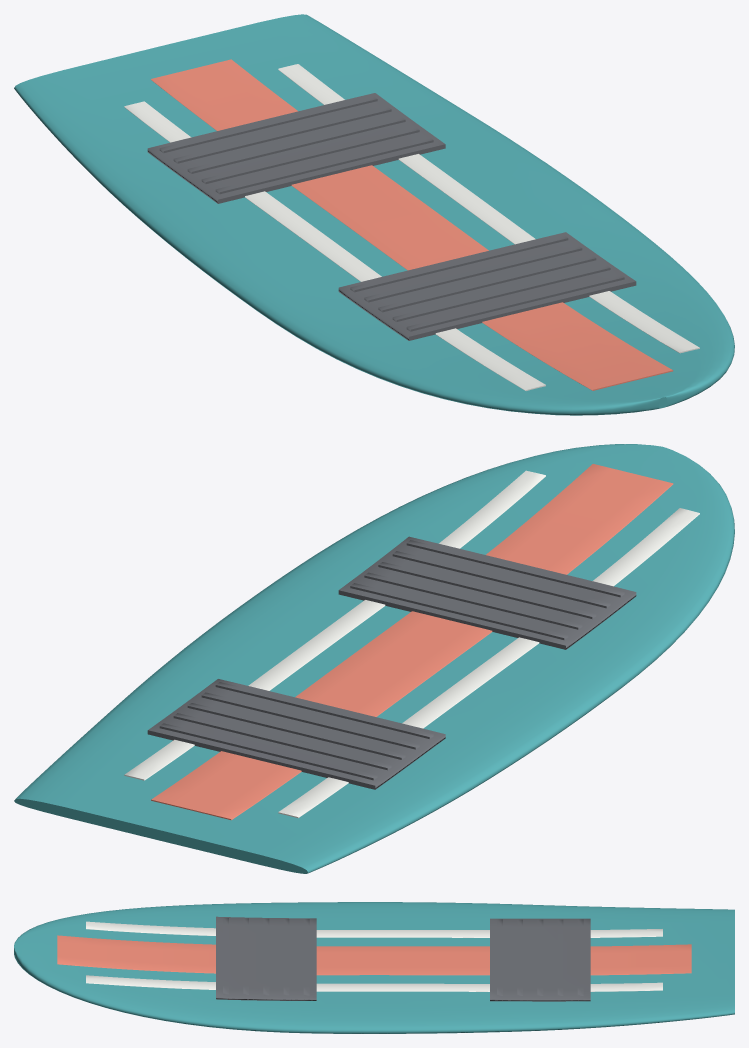
Rendered from beach-surf-and-paddle-kit-skimboard-ec25b31f__39423.glb.
3 renders of one model, top to bottom at view 1: azimuth 30°, elevation 25°; view 2: azimuth 150°, elevation 25°; view 3: azimuth 270°, elevation 25°, orthographic. The views are drawn at different scales.
Parts seen in each view (by area): view 1: skimboard-teal, skimboard-charcoal, skimboard-coral, skimboard-foam; view 2: skimboard-teal, skimboard-charcoal, skimboard-coral, skimboard-foam; view 3: skimboard-teal, skimboard-charcoal, skimboard-coral, skimboard-foam.
Part boxes in pixels (x1,y1,x2,y2): skimboard-teal: (14, 14, 734, 415); skimboard-charcoal: (147, 93, 636, 340); skimboard-coral: (151, 59, 673, 390); skimboard-foam: (124, 64, 699, 390); skimboard-teal: (14, 444, 734, 873); skimboard-charcoal: (147, 536, 636, 789); skimboard-coral: (151, 464, 673, 820); skimboard-foam: (124, 470, 699, 818); skimboard-teal: (14, 902, 734, 1033); skimboard-charcoal: (216, 916, 590, 1001); skimboard-coral: (57, 935, 691, 975); skimboard-foam: (86, 921, 662, 991).
Size of the model in its own units: 0.5499 by 0.0536 by 1.3.
